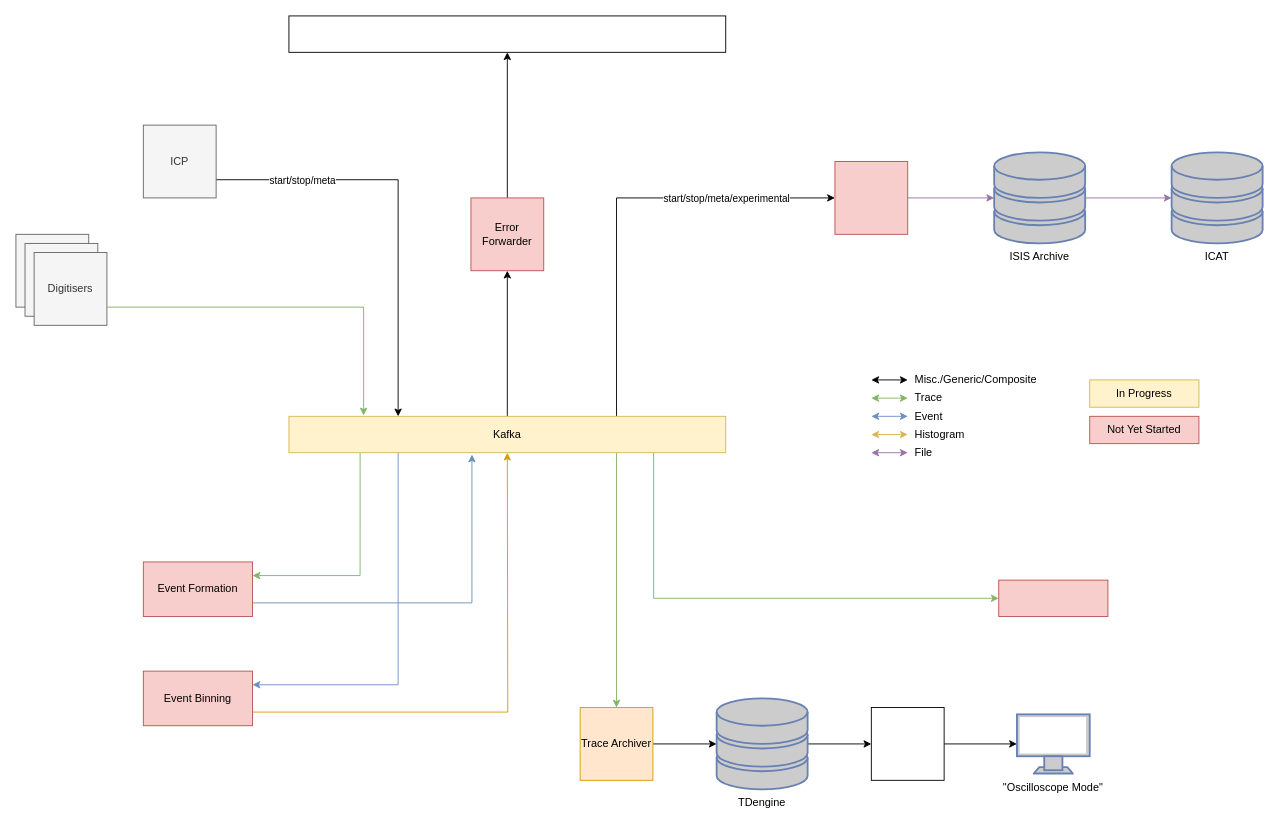
Image size: 1279x833. Some labels were removed from this diagram. Here are the shapes that lost their labels. From the top down, the centre of each, then its label:
At [507,33]: "EPICS".
At [871,197]: "File Writer".
At [1053,598]: "kafka-daq-report".
At [907,743]: "Grafana".
